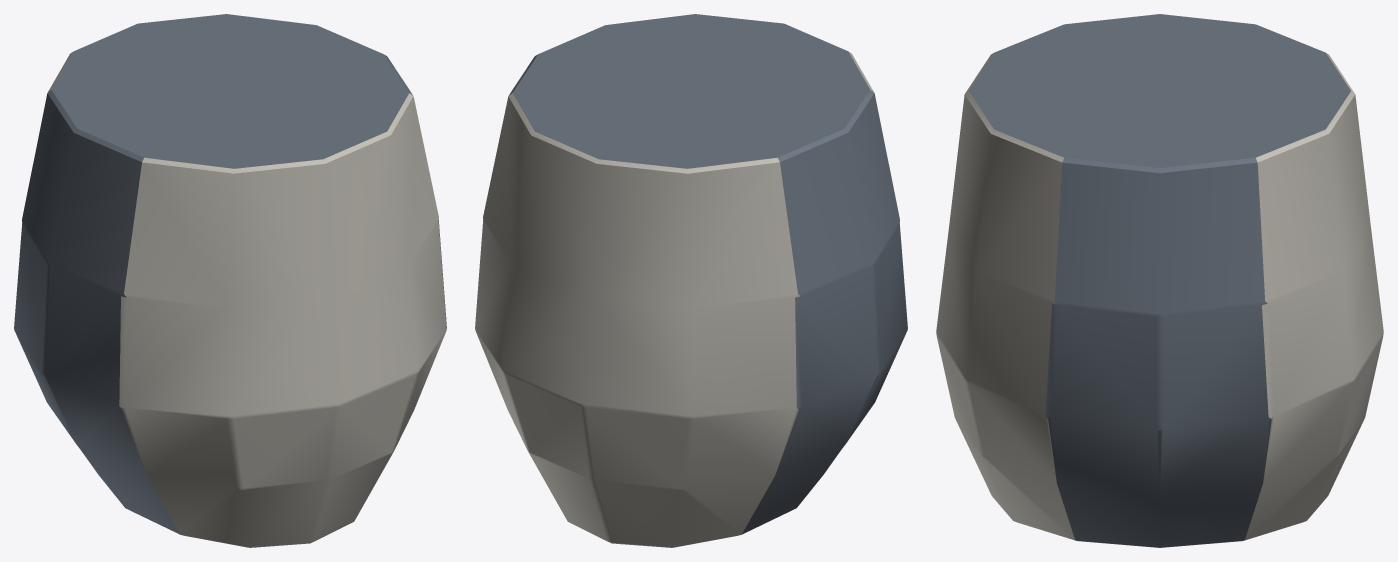
The model's file is pelvis_medium.glb.
3 views of the same model, side by side, from view 1: azimuth 30°, elevation 25°; view 2: azimuth 150°, elevation 25°; view 3: azimuth 270°, elevation 25° (orthographic). The views are drawn at different scales.
Parts seen in each view (by area): view 1: pelvis_medium; view 2: pelvis_medium; view 3: pelvis_medium.
Part boxes in pixels (x1,y1,x2,y2): pelvis_medium: (14,14,446,547); pelvis_medium: (475,14,907,547); pelvis_medium: (936,14,1383,547).
Size of the model in its own units: 0.9959 by 1 by 0.9982.
